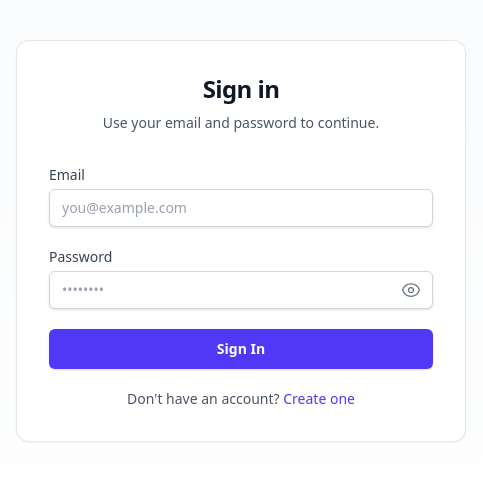
Test: LoginForm › should show validation error for empty email
This screenshot has width=483, height=484.
What coordinates should you click on to do the following:
click the button "Sign In"
I would click on:
 (241, 349)
Its box is [49,329,433,369].
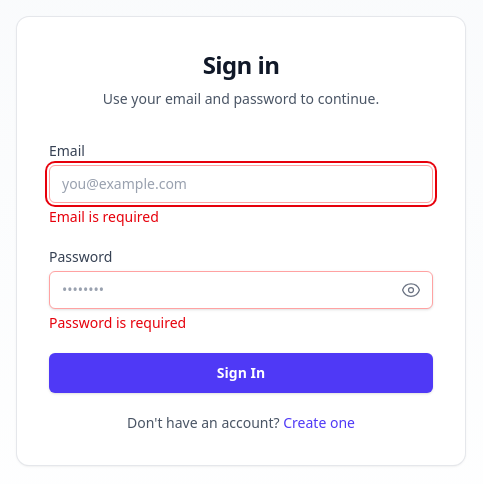
Result: the text "Email is required" is shown at [49,207,159,226]
